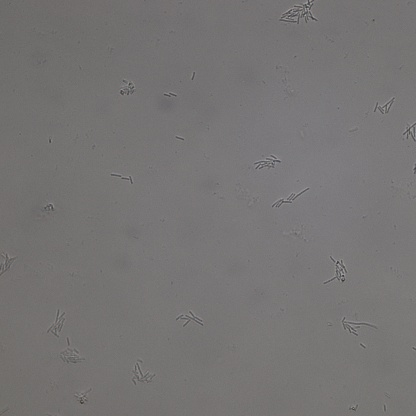R(colony): (279, 1, 318, 24), (322, 256, 349, 285), (273, 187, 310, 207), (341, 317, 379, 336), (59, 338, 84, 364), (130, 359, 155, 385), (48, 307, 67, 335), (253, 154, 281, 171), (176, 311, 204, 327), (373, 97, 394, 115), (120, 78, 137, 96)
